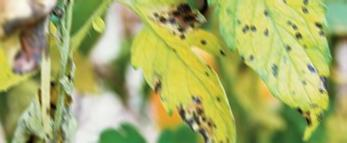Tomato leaf bacterial spot: (210, 0, 332, 129), (125, 0, 232, 143)
